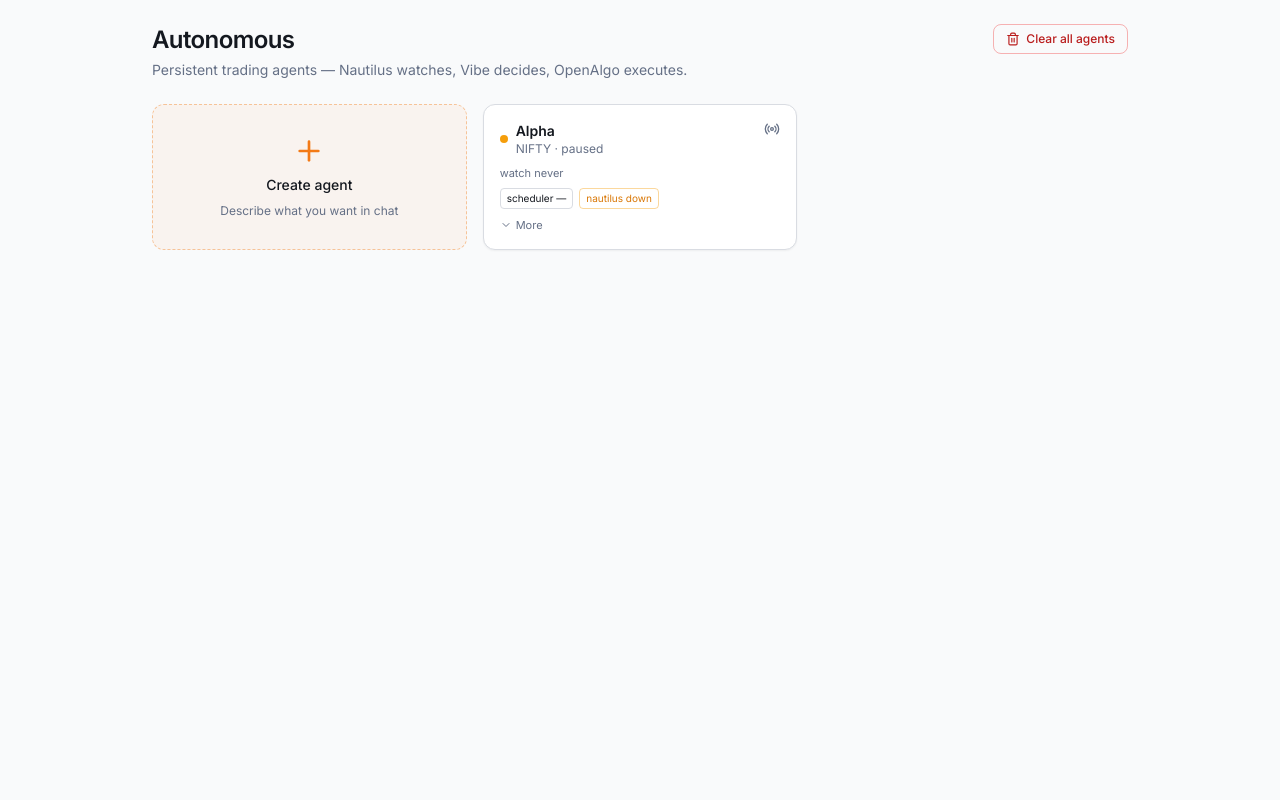
Test: AutonomousAgentHub delete › declining the flatten question deletes nothing
Click the button "More" at (506, 225), box [500,216,780,233]
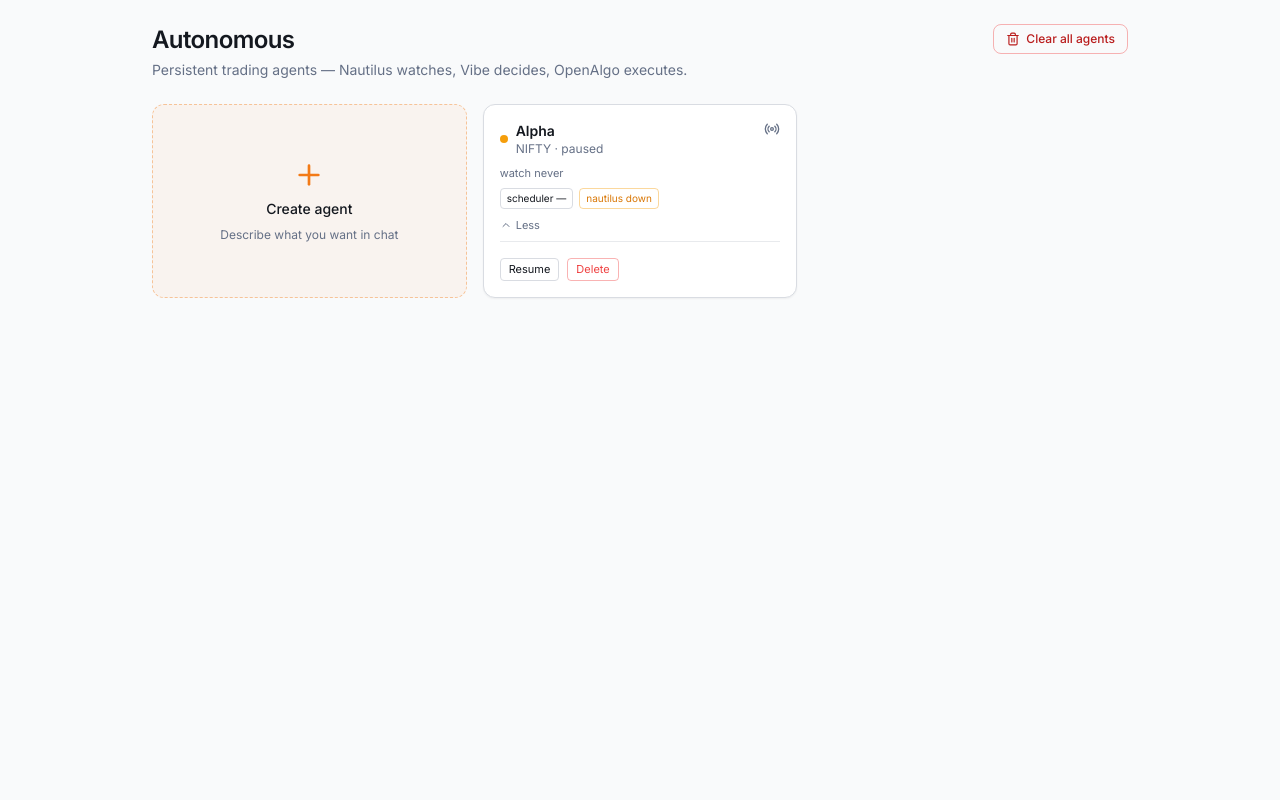
Click the button "Delete" at (593, 269), box [567,258,619,280]
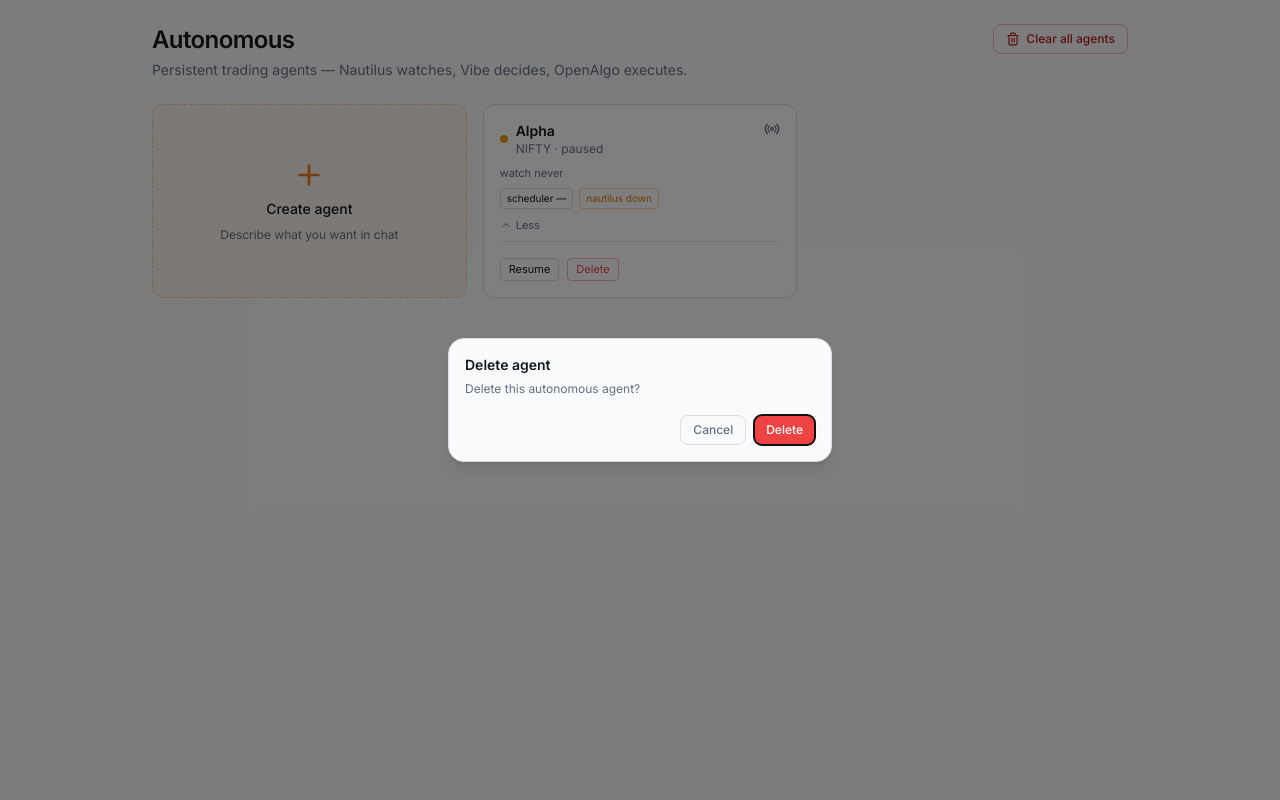
Click the button "Delete" at (785, 430), box [754,415,815,445]
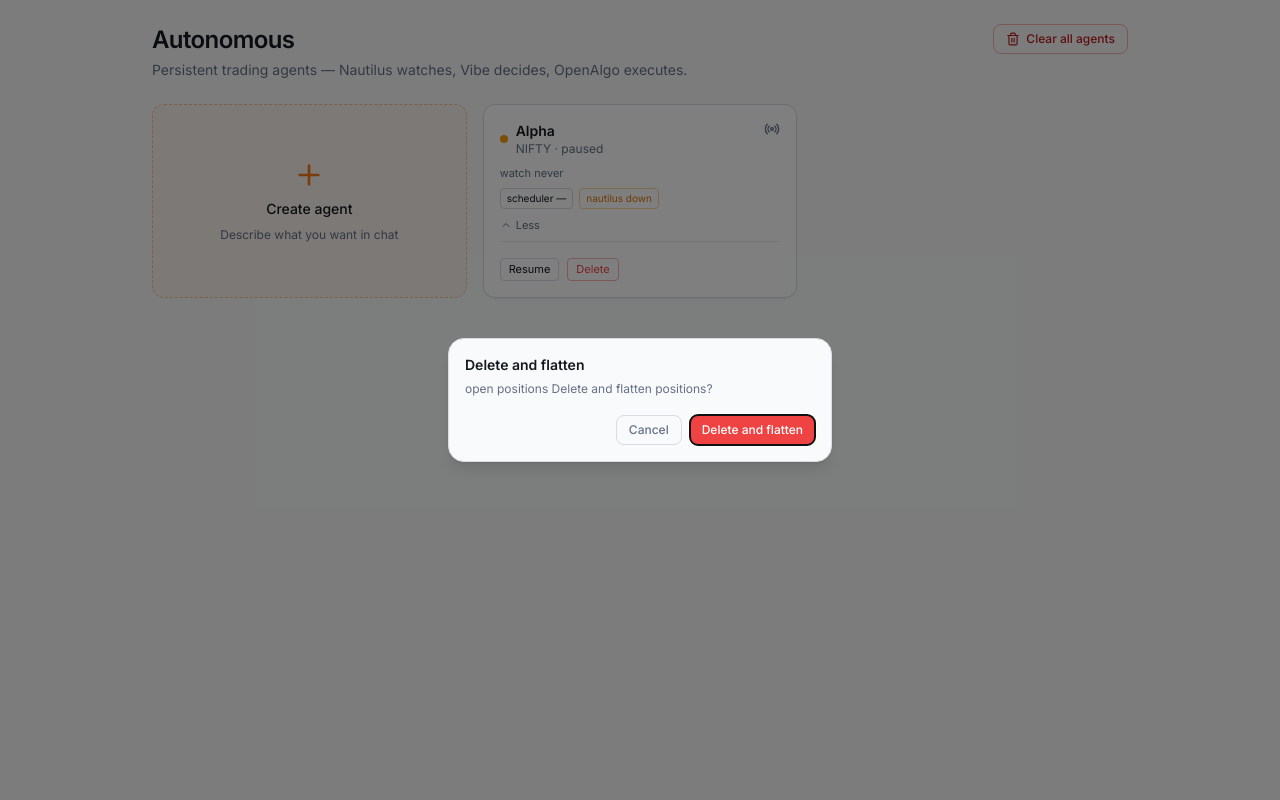
Now the dialog shows "open positions", box [465,381,713,396]
Click the button "Cancel" at (649, 430), box [616,415,682,445]
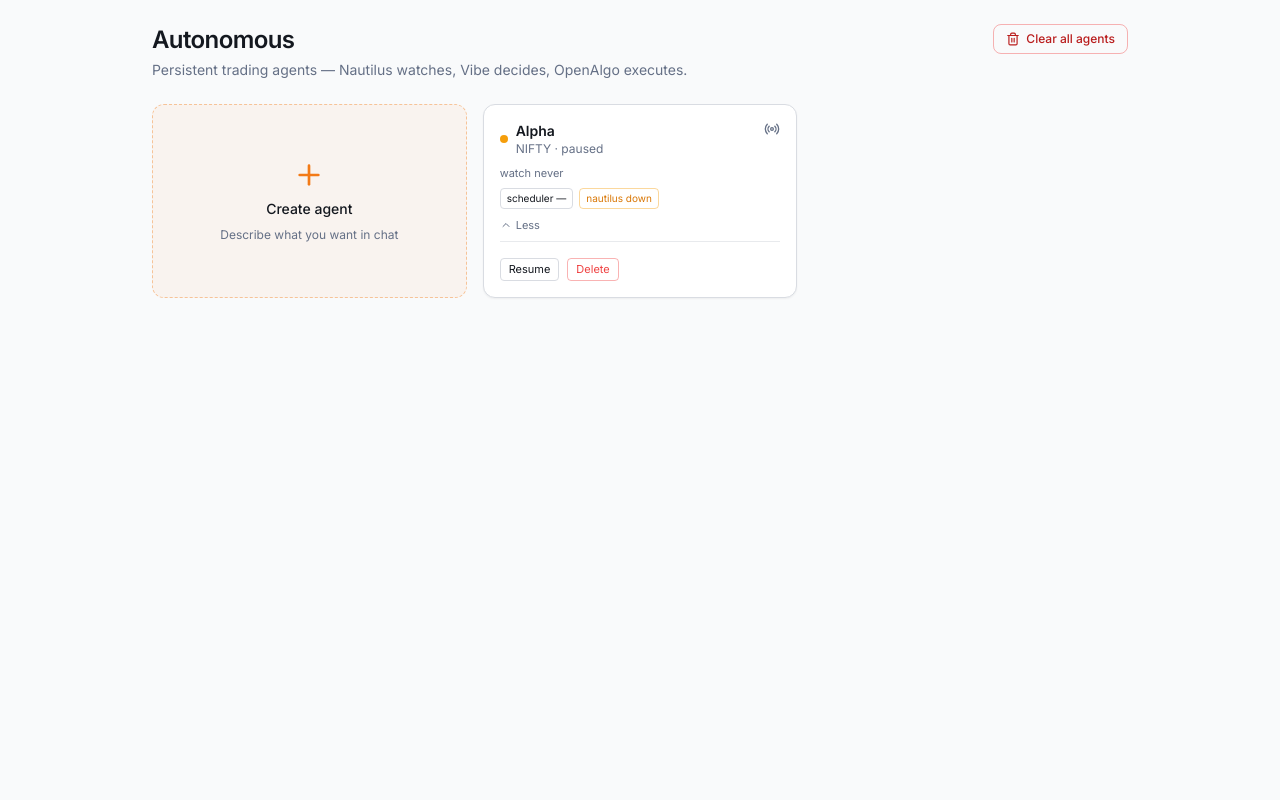
Now the dialog is gone
